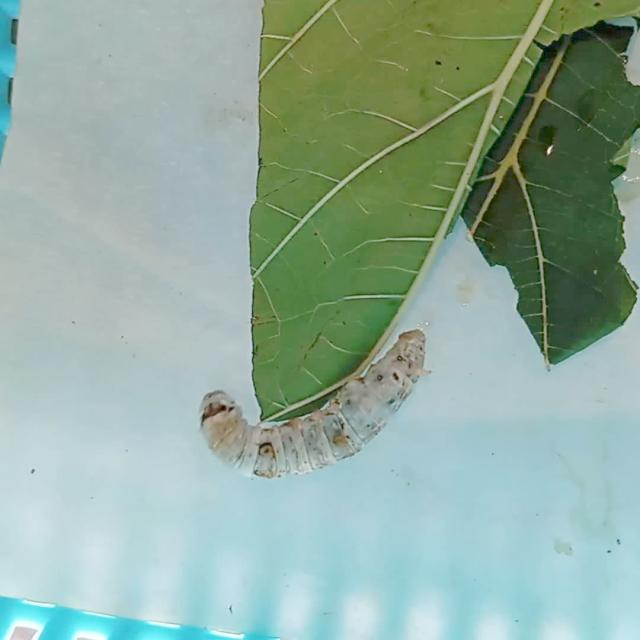Grasserie: (147, 301, 491, 515)
